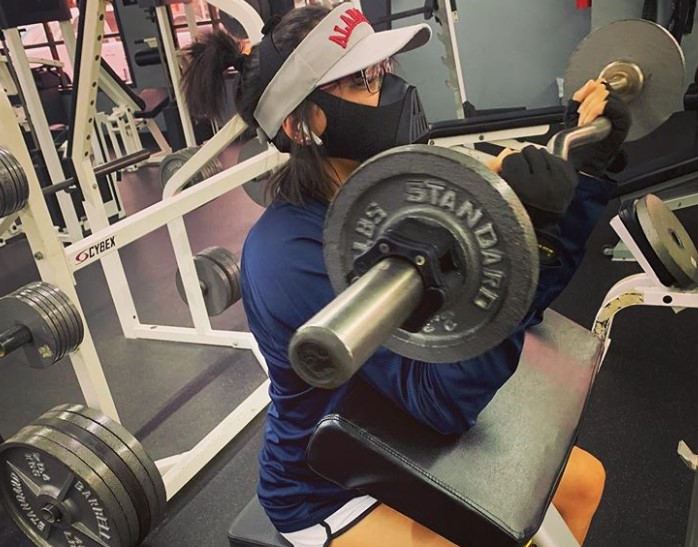face_with_mask: (234, 6, 433, 169)
